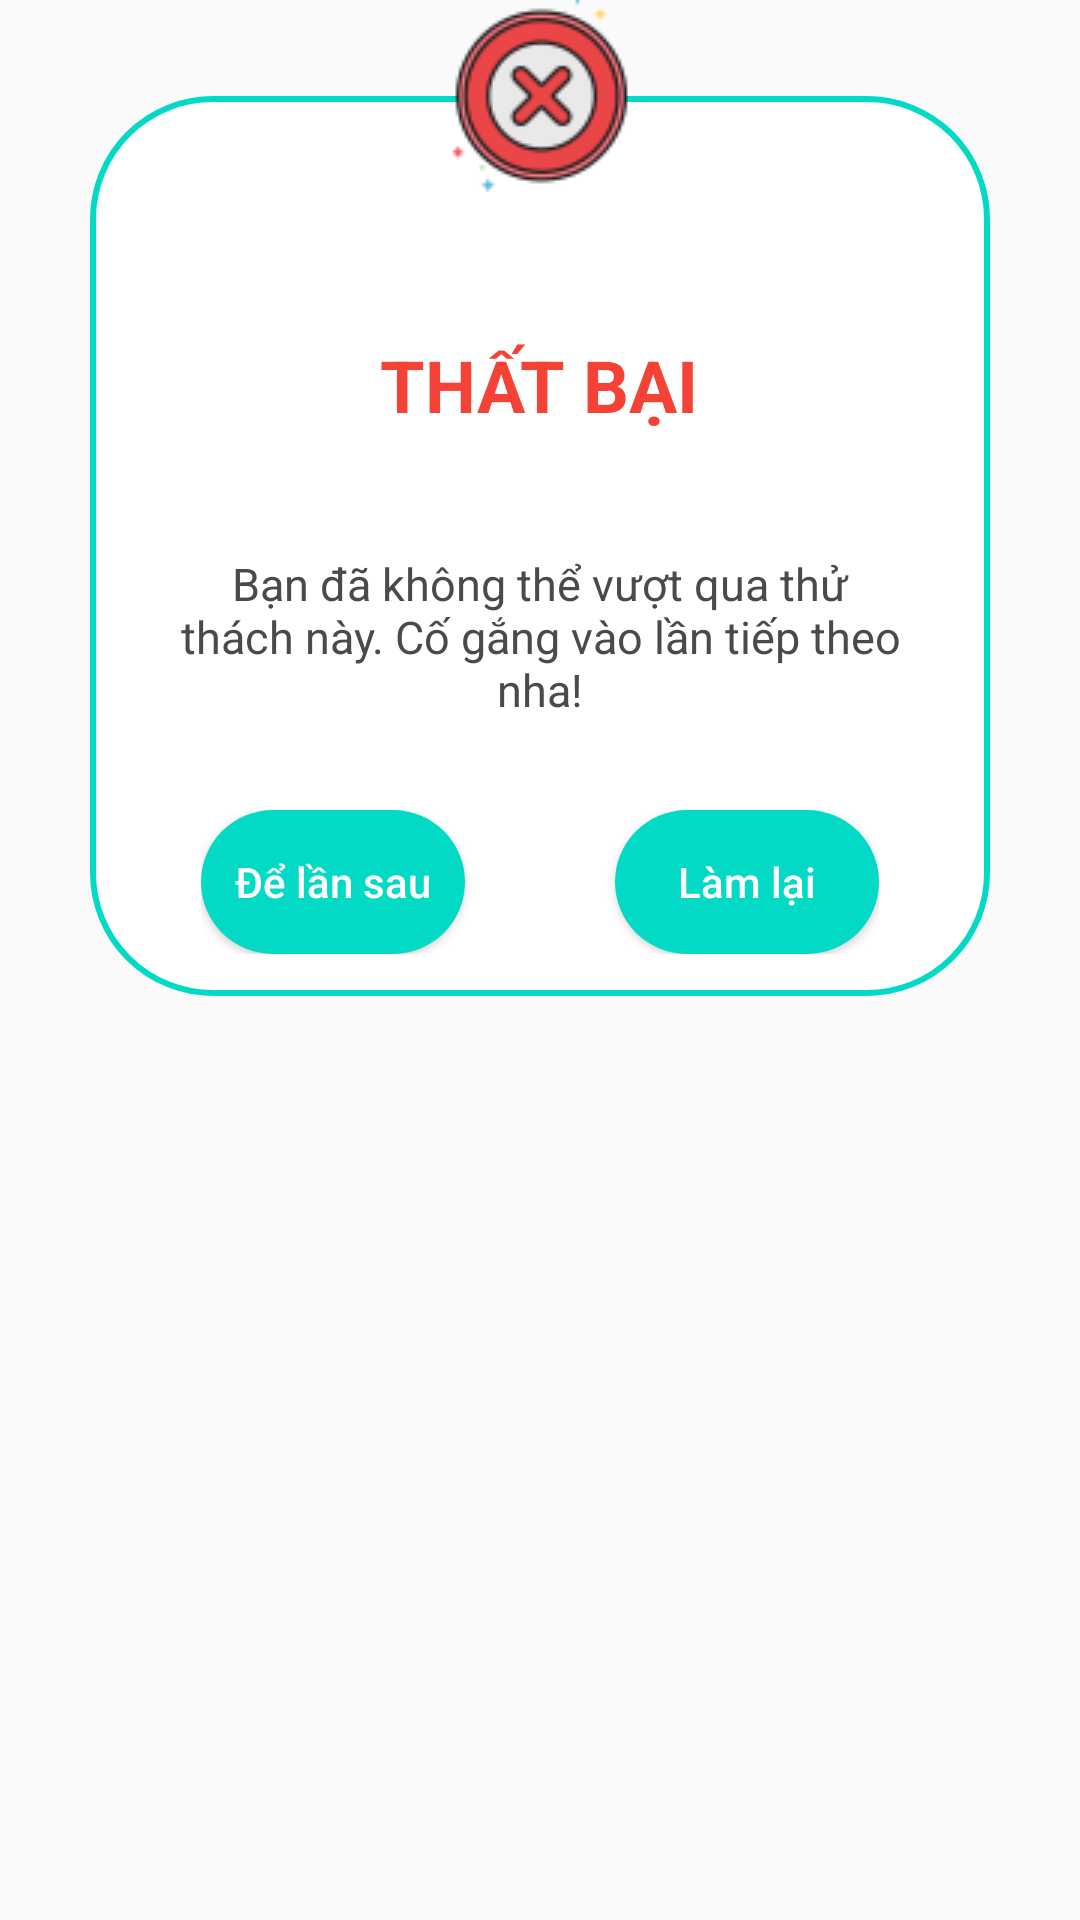

Icons on this 1080*1920 Android screen, each with the point to tap as point (x, y):
failed: point (540, 96)
